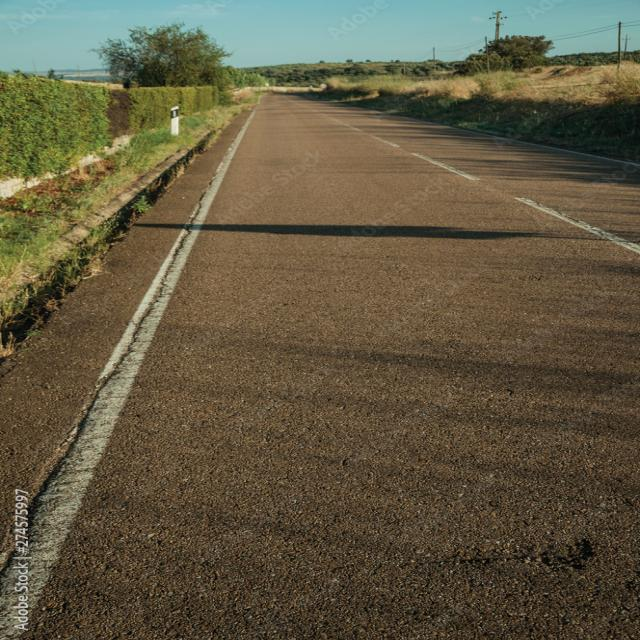Pothole: (5, 173, 236, 614)
